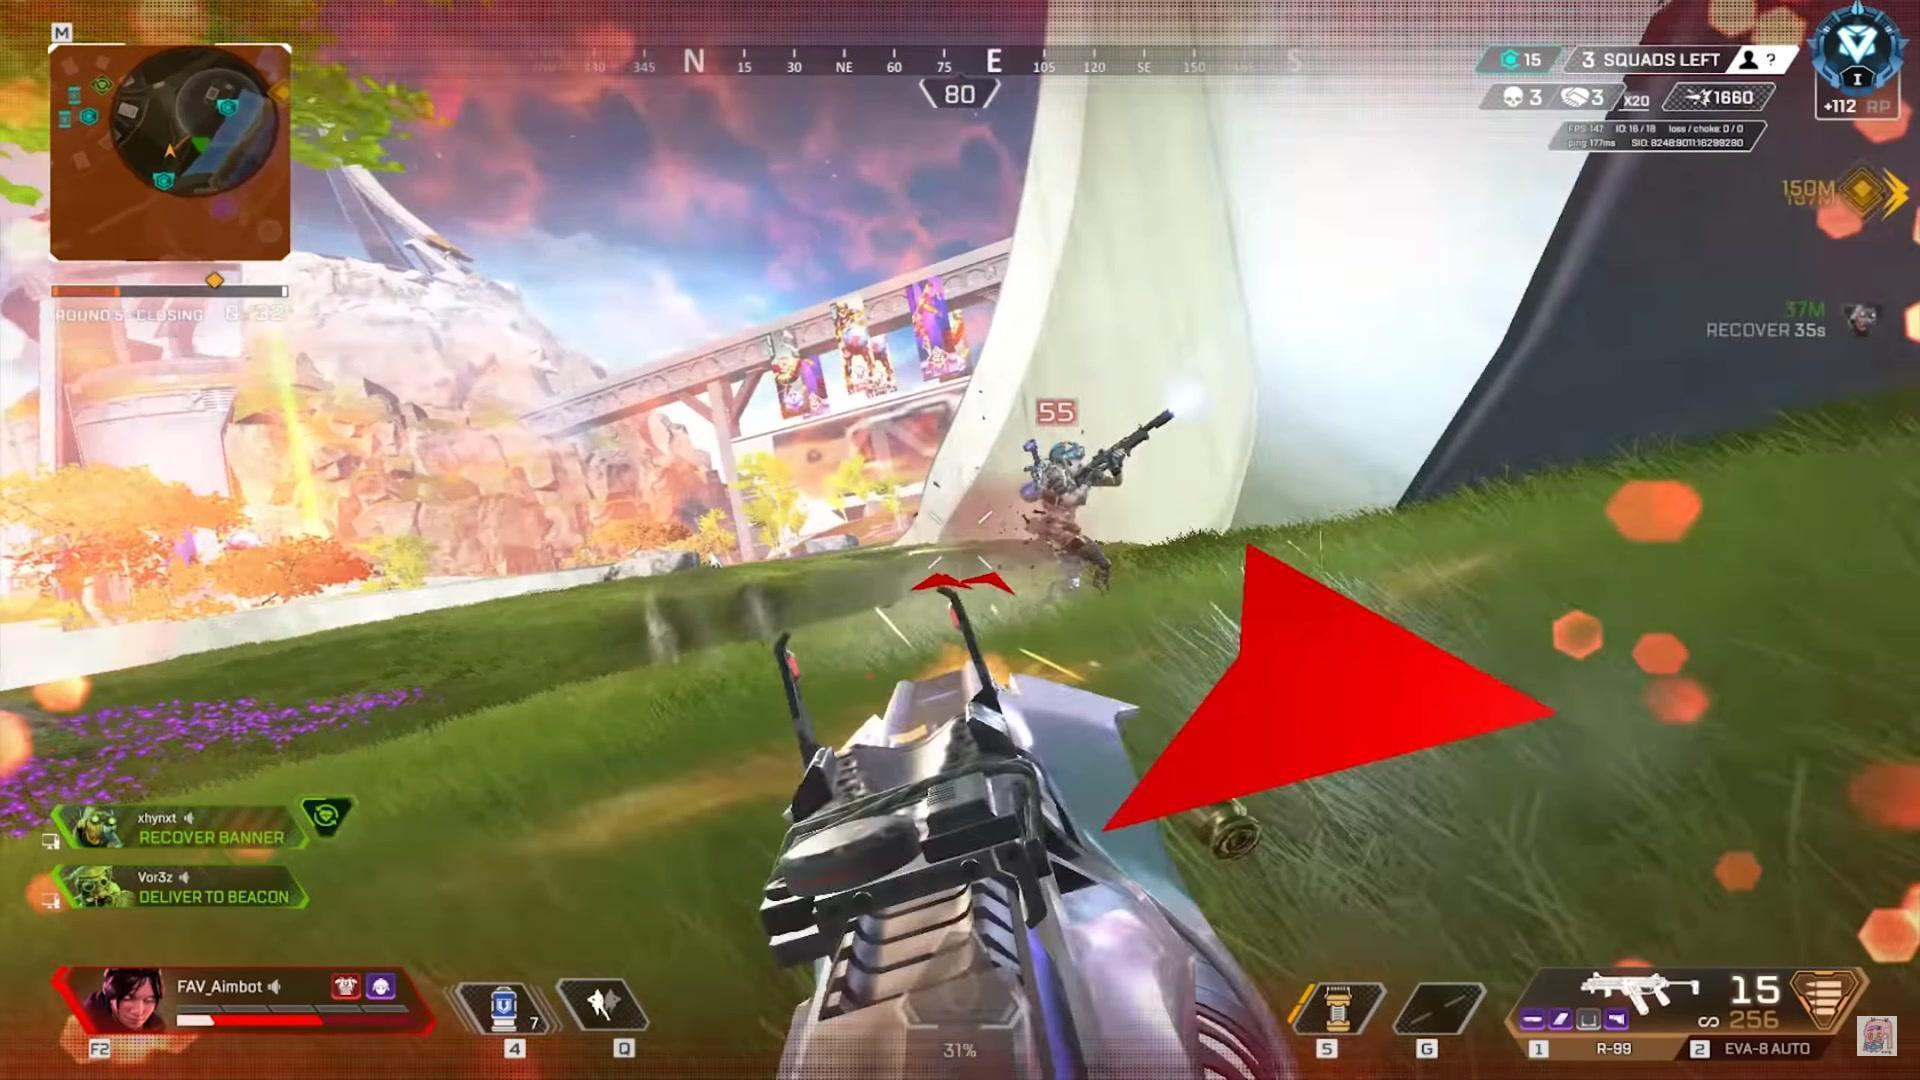avatar: (1017, 435, 1098, 568)
